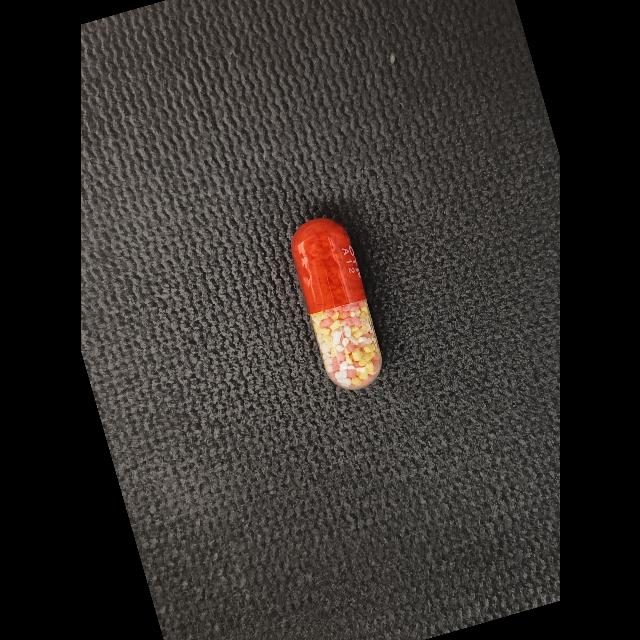Intact Capsule: (291, 219, 381, 389)
